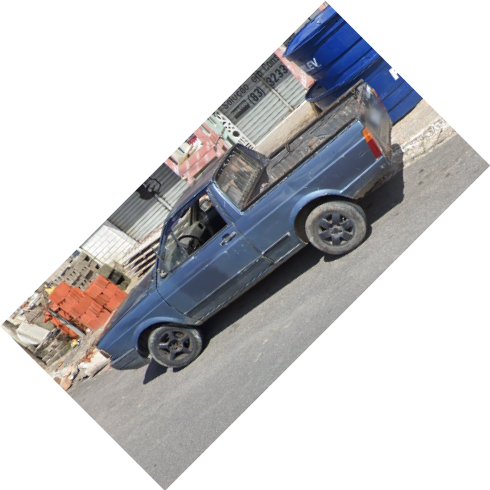car: (93, 77, 395, 368)
